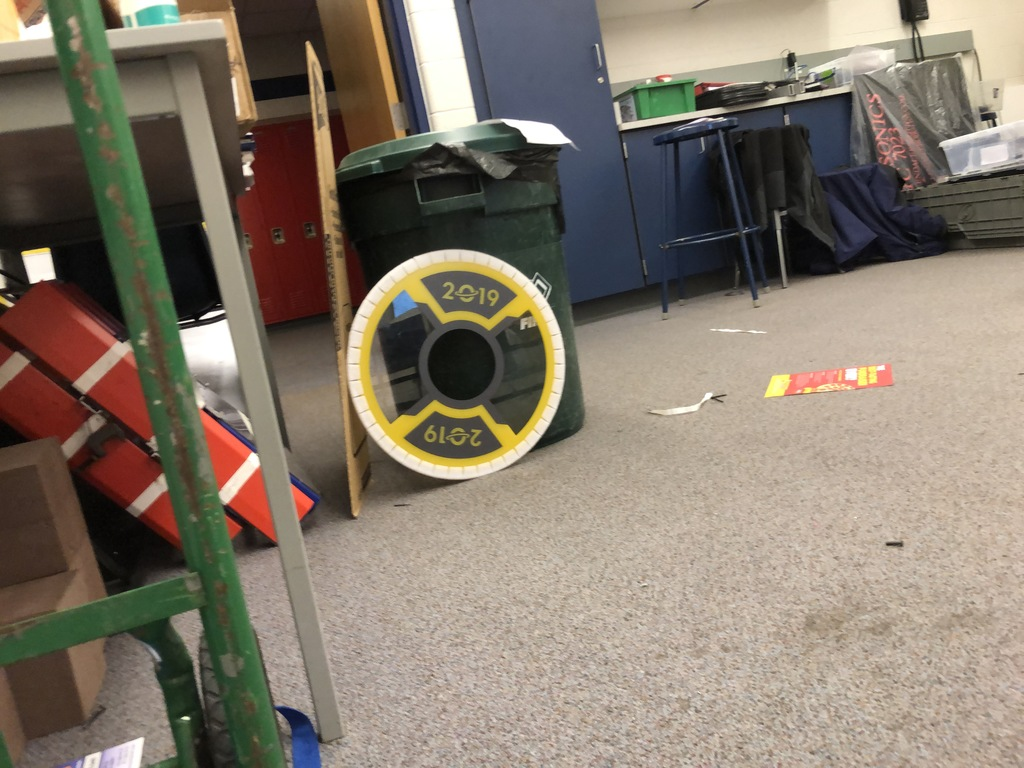hatch_panel: (328, 224, 579, 491)
